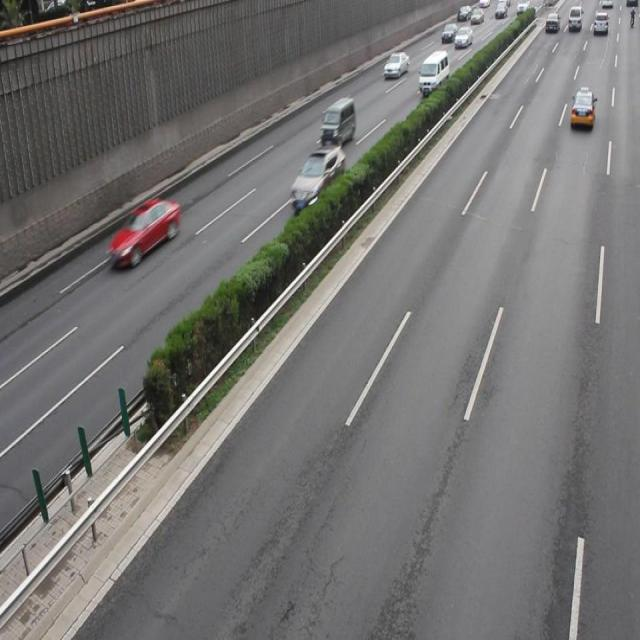car: (108, 198, 180, 268), (291, 145, 345, 213), (568, 88, 594, 132)
truck: (319, 96, 355, 148)
